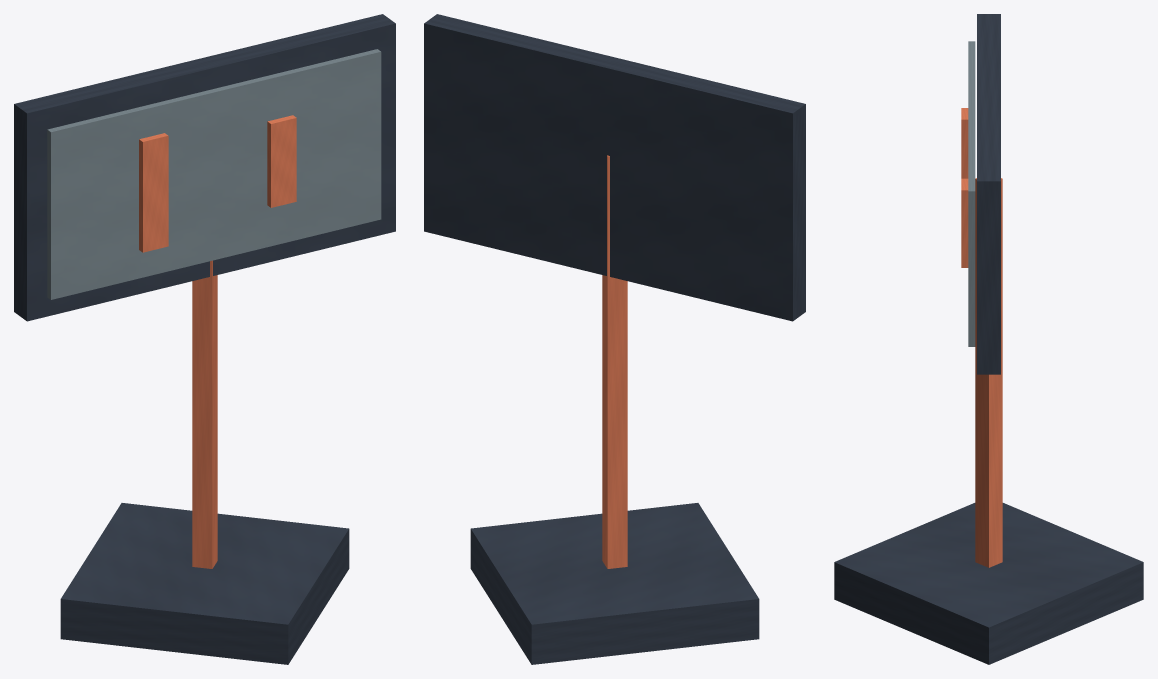
The model's file is atlas100-s023-a11.lod1.glb.
3 renders of one model, left to right at view 1: azimuth 30°, elevation 25°; view 2: azimuth 150°, elevation 25°; view 3: azimuth 270°, elevation 25°, orthographic. The views are drawn at different scales.
Parts seen in each view (by area): view 1: atlas100-s023-a11:part-003, atlas100-s023-a11:part-000, atlas100-s023-a11:part-002, atlas100-s023-a11:part-001, atlas100-s023-a11:part-004, atlas100-s023-a11:part-006; view 2: atlas100-s023-a11:part-002, atlas100-s023-a11:part-000, atlas100-s023-a11:part-001; view 3: atlas100-s023-a11:part-000, atlas100-s023-a11:part-002, atlas100-s023-a11:part-001, atlas100-s023-a11:part-003, atlas100-s023-a11:part-006, atlas100-s023-a11:part-004.
Boxes of the visible parts, left/top/right/bottom form: atlas100-s023-a11:part-003: left=47, top=49, right=381, bottom=299; atlas100-s023-a11:part-000: left=60, top=503, right=349, bottom=664; atlas100-s023-a11:part-002: left=14, top=14, right=395, bottom=321; atlas100-s023-a11:part-001: left=192, top=260, right=217, bottom=568; atlas100-s023-a11:part-004: left=139, top=133, right=168, bottom=252; atlas100-s023-a11:part-006: left=267, top=115, right=296, bottom=207; atlas100-s023-a11:part-002: left=424, top=14, right=805, bottom=321; atlas100-s023-a11:part-000: left=470, top=503, right=759, bottom=664; atlas100-s023-a11:part-001: left=602, top=155, right=627, bottom=568; atlas100-s023-a11:part-000: left=834, top=503, right=1143, bottom=664; atlas100-s023-a11:part-002: left=977, top=14, right=1000, bottom=374; atlas100-s023-a11:part-001: left=975, top=178, right=1002, bottom=567; atlas100-s023-a11:part-003: left=968, top=41, right=975, bottom=346; atlas100-s023-a11:part-006: left=961, top=178, right=968, bottom=267; atlas100-s023-a11:part-004: left=961, top=108, right=968, bottom=178.
Bounding box in the file's own units: 1.15 × 1.61 × 0.9.
Materials: 3 (3 with a texture image).
